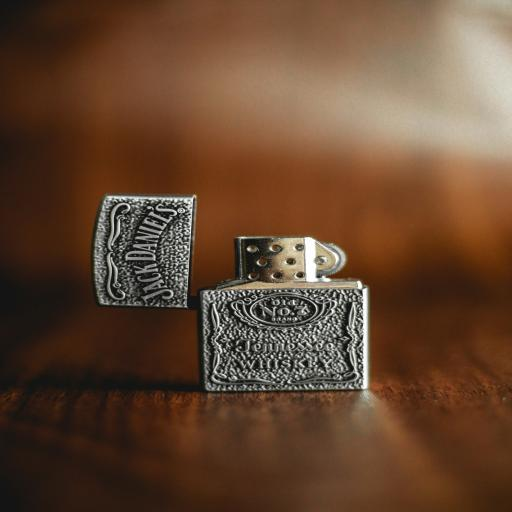lighter: (79, 175, 428, 400)
